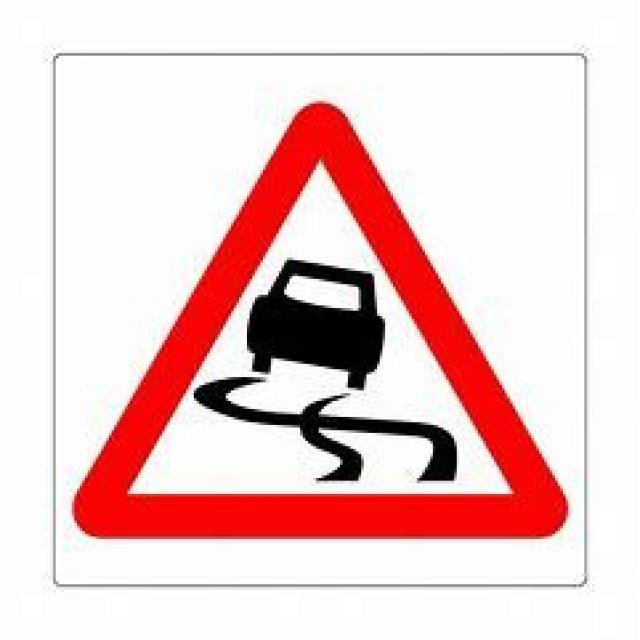slippery road: (75, 101, 569, 544)
